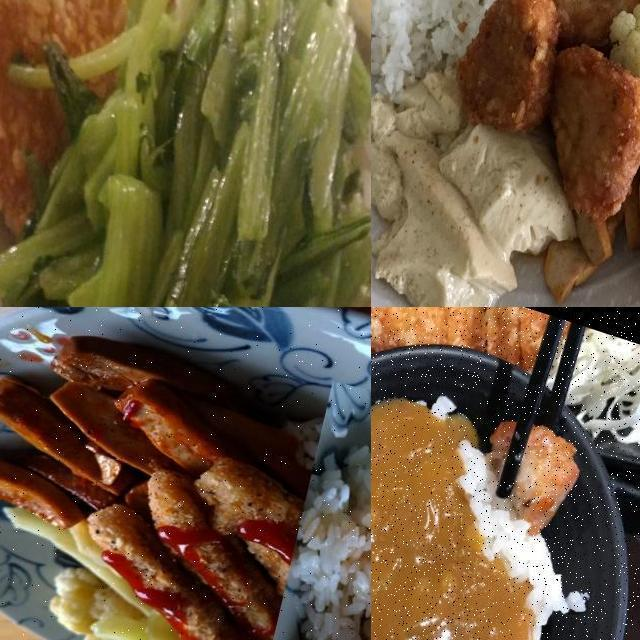Rice: (371, 0, 614, 122), (264, 383, 371, 640)
curry: (371, 385, 576, 640)
triangle_hash_brown: (458, 0, 640, 220)
water_spinach: (0, 0, 360, 307)
